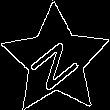N_NE: (25, 29, 87, 91)
